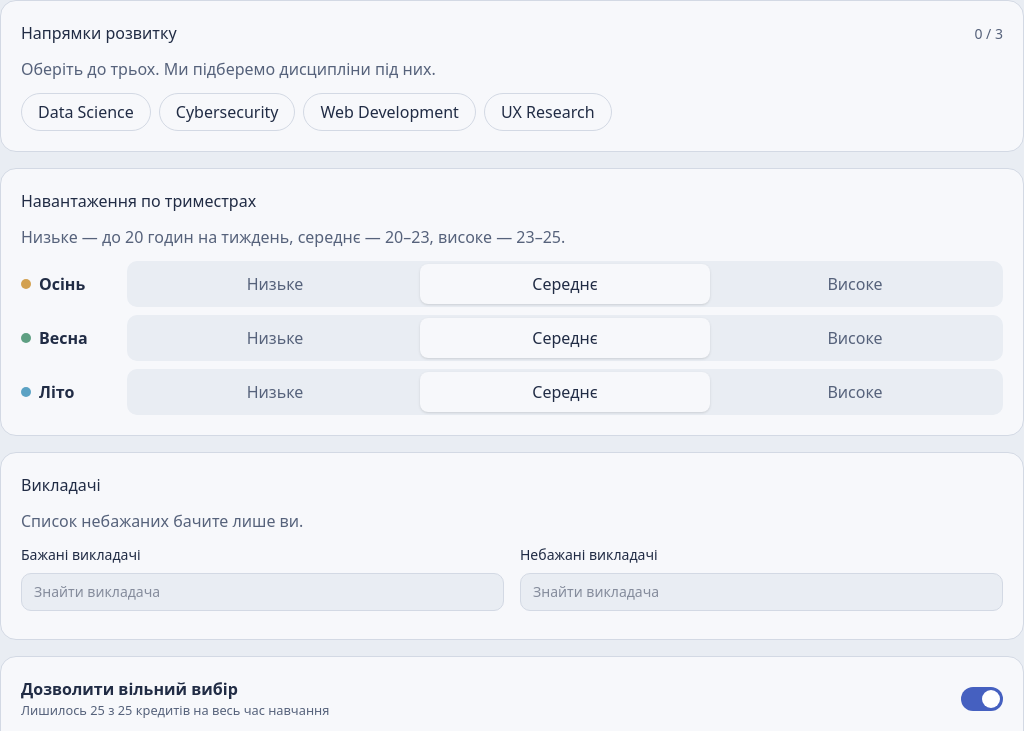
Scenario: навантаження › низьке навантаження влітку й восени показує відповідні попередження
Expected: the element named "Навантаження: літо" is shown, [127,369,1003,415]
Click the button "Низьке" next to "Літо".
click(275, 392)  # box [130,372,420,412]
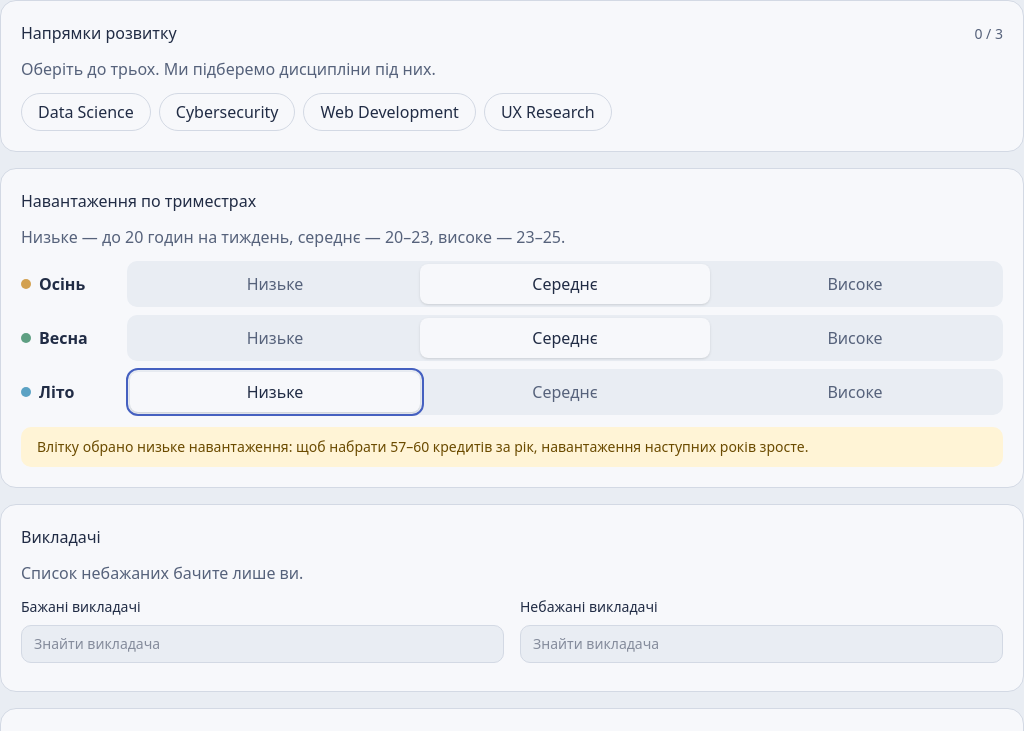
Expected: the text "Влітку обрано низьке навантаження: щоб набрати 57–60 кредитів за рік, навантаження наступних років зросте." is shown, [21,427,1003,467]
Click the button "Низьке" next to "Осінь".
click(275, 284)  # box [130,264,420,304]
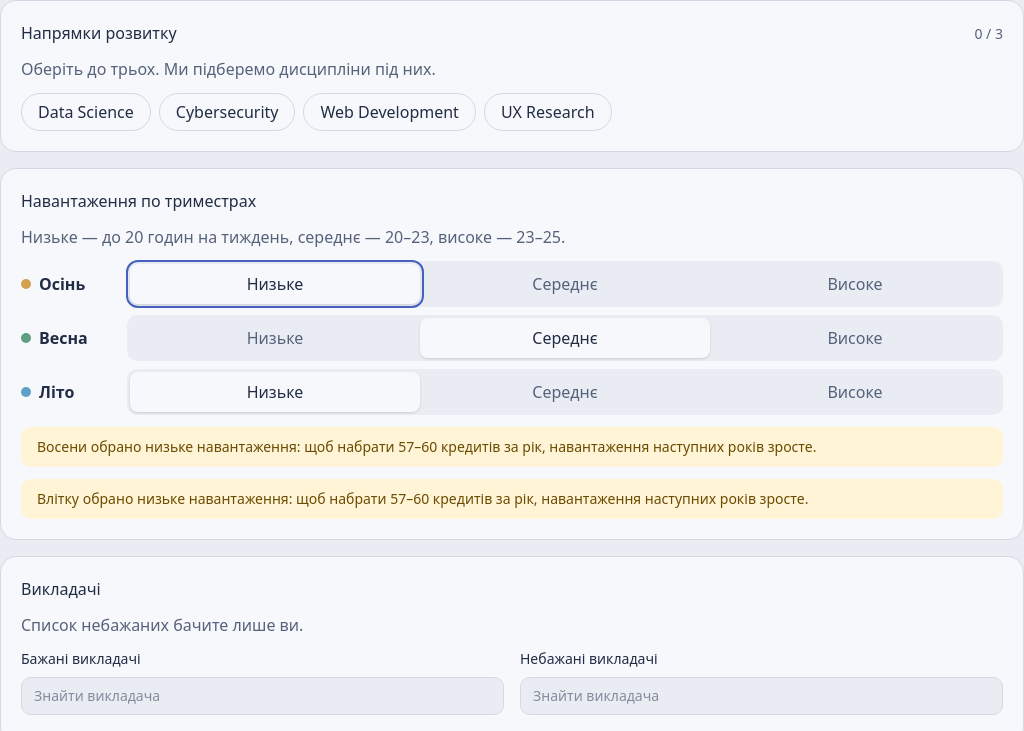
Expected: the text "Восени обрано низьке навантаження" is shown, [21,427,1003,467]
